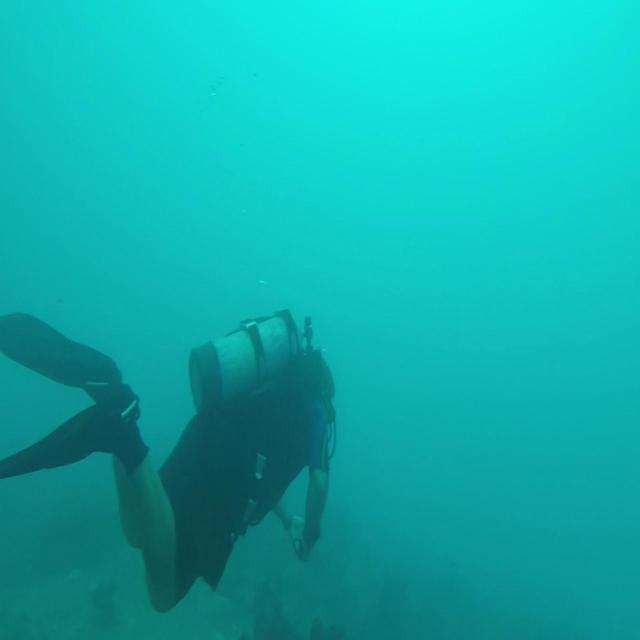human: (0, 305, 337, 613)
